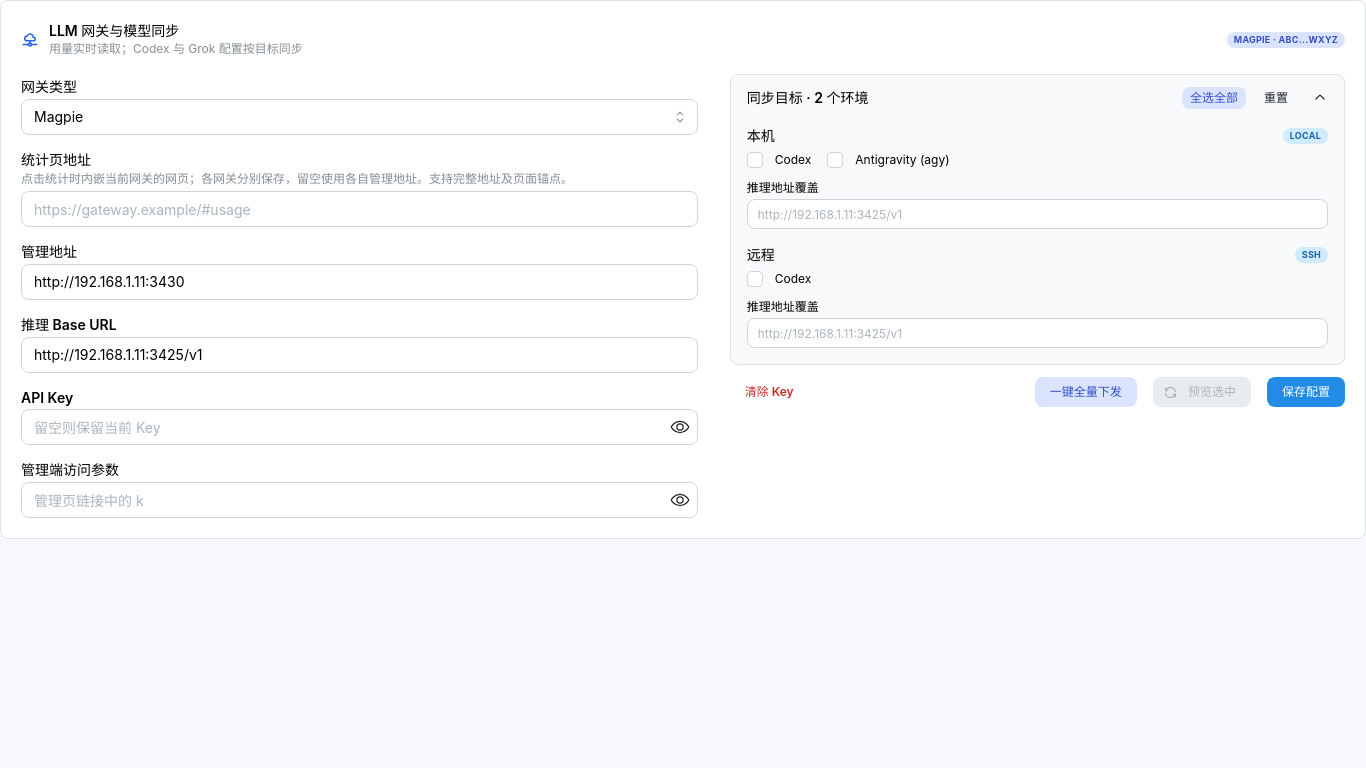
Test: offers Antigravity only on supported targets and previews its selection
Click the checkbox labelled "Antigravity (agy)" at (835, 160), box [827, 152, 843, 168]
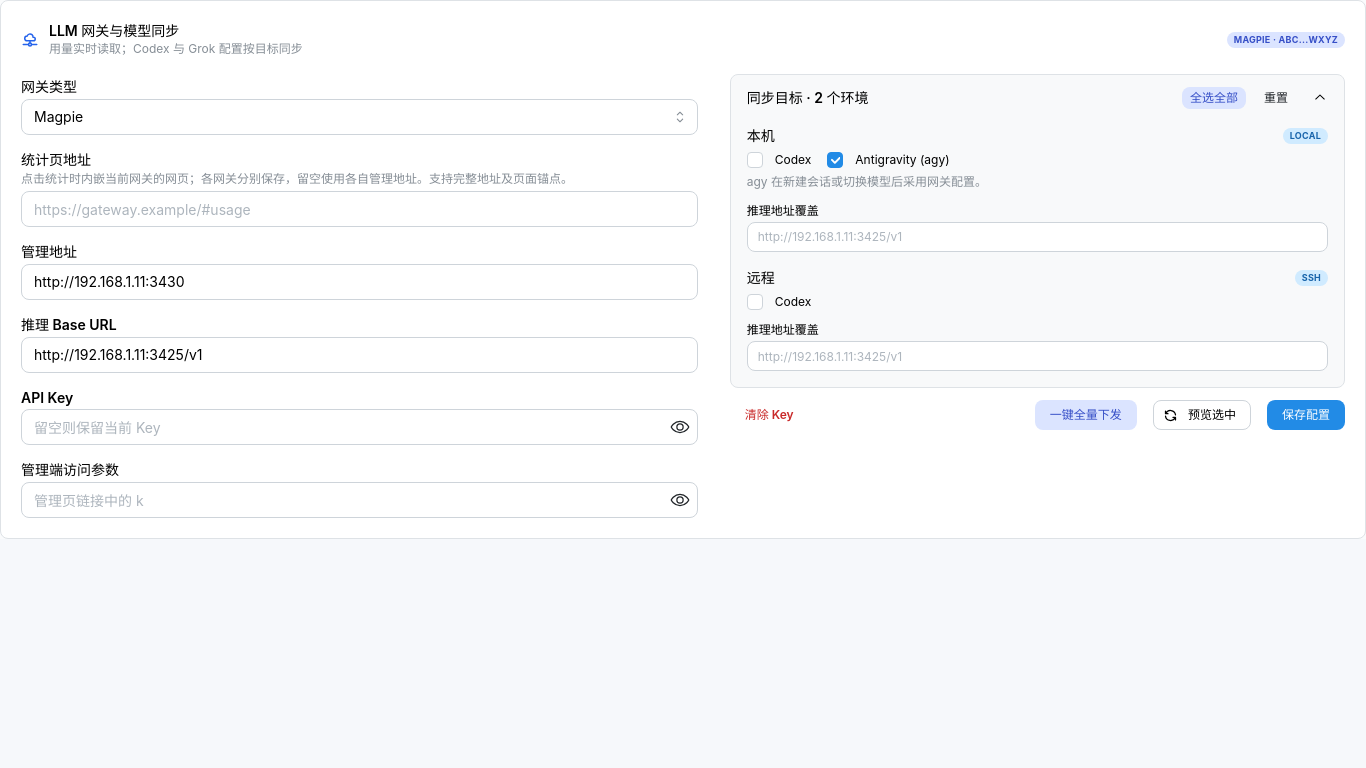
Click the button "预览选中" at (1202, 415), box [1153, 400, 1251, 430]
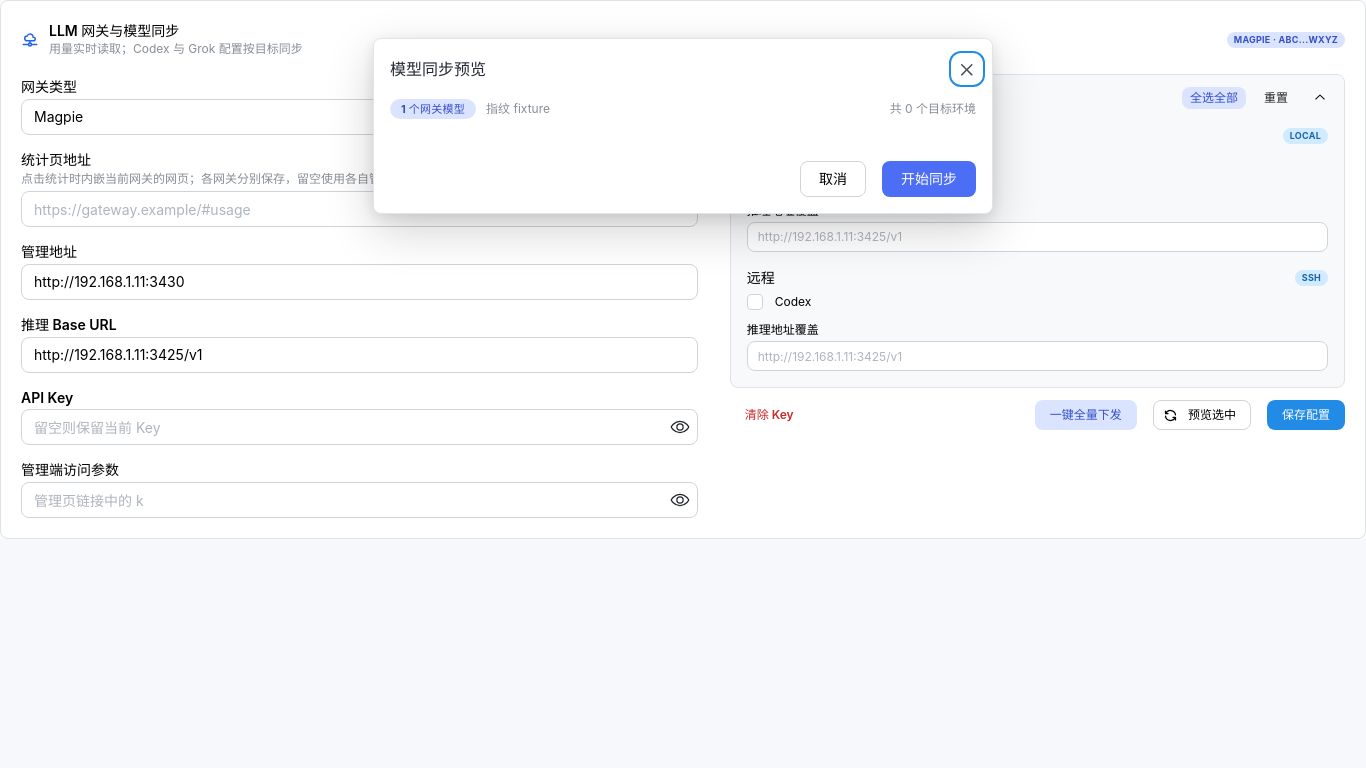
Expected: the text "1 个网关模型" is shown, [401, 100, 465, 118]
